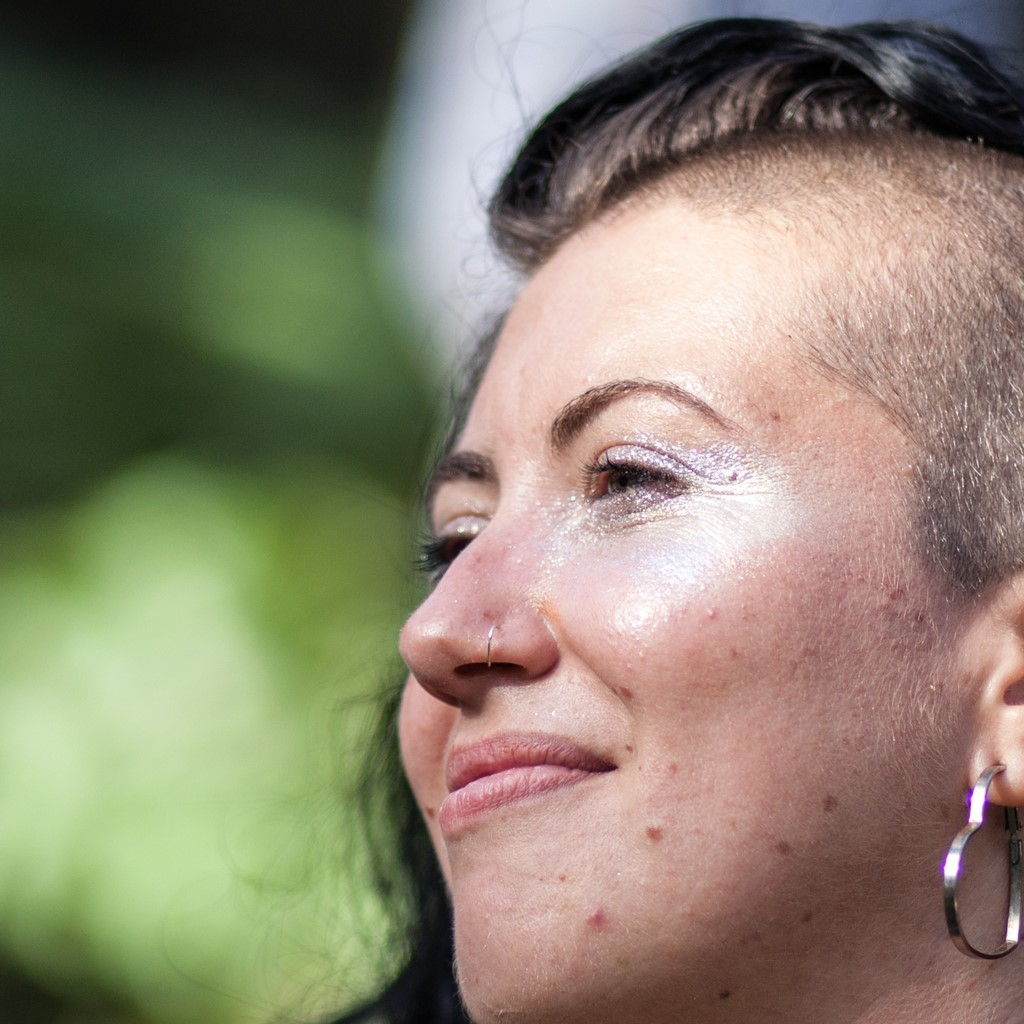sin_mascara: (383, 163, 1013, 1024)
